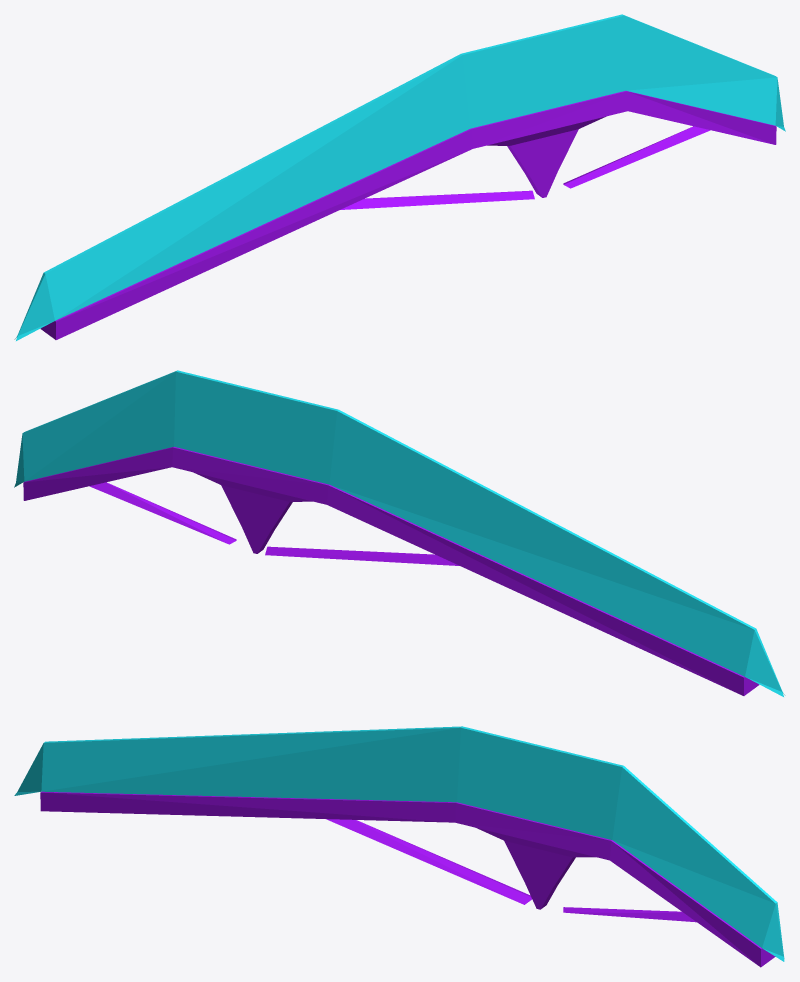
File: espadarara.fbx
3 views of the same model, one above another, from view 1: azimuth 30°, elevation 25°; view 2: azimuth 150°, elevation 25°; view 3: azimuth 330°, elevation 25° (orthographic).
Parts seen in each view (by area): view 1: Box001; view 2: Box001; view 3: Box001.
Part boxes in pixels (x1,y1,x2,y2): Box001: (14,14,785,340); Box001: (14,370,785,696); Box001: (14,726,784,967).
Bounding box in the file's own units: 450 × 100 × 18.3.
